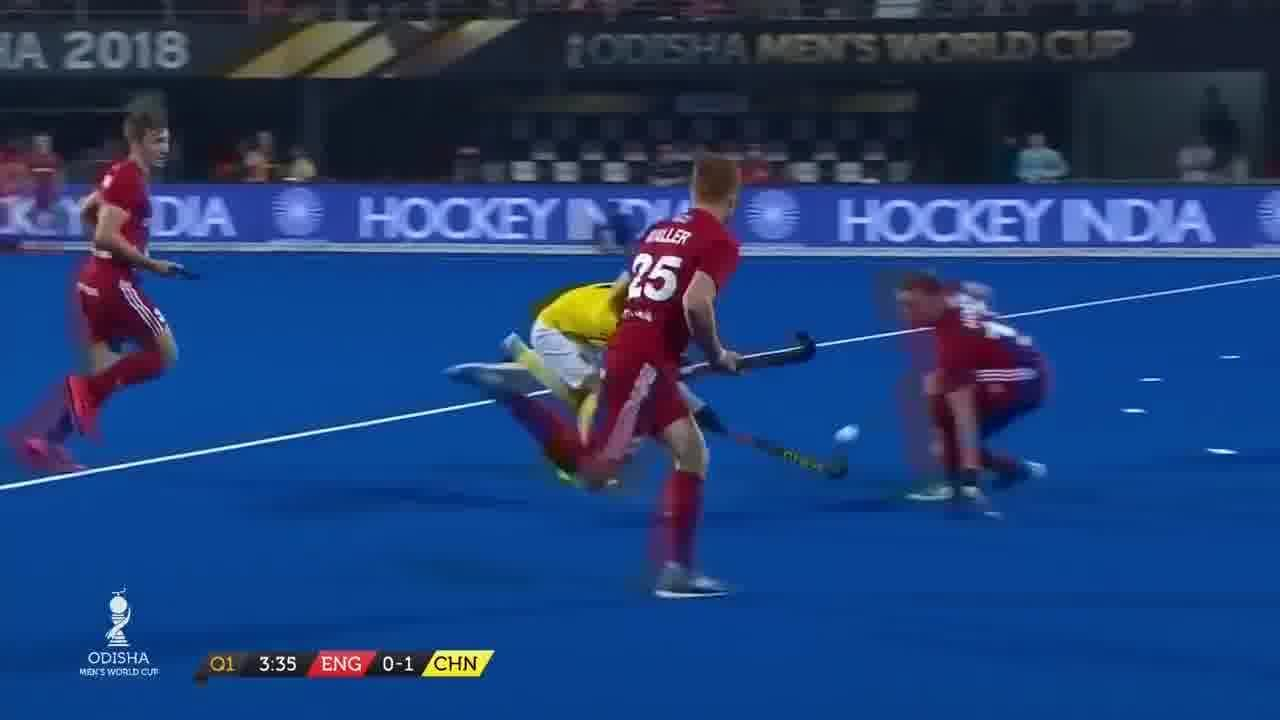ball: (828, 416, 862, 446)
